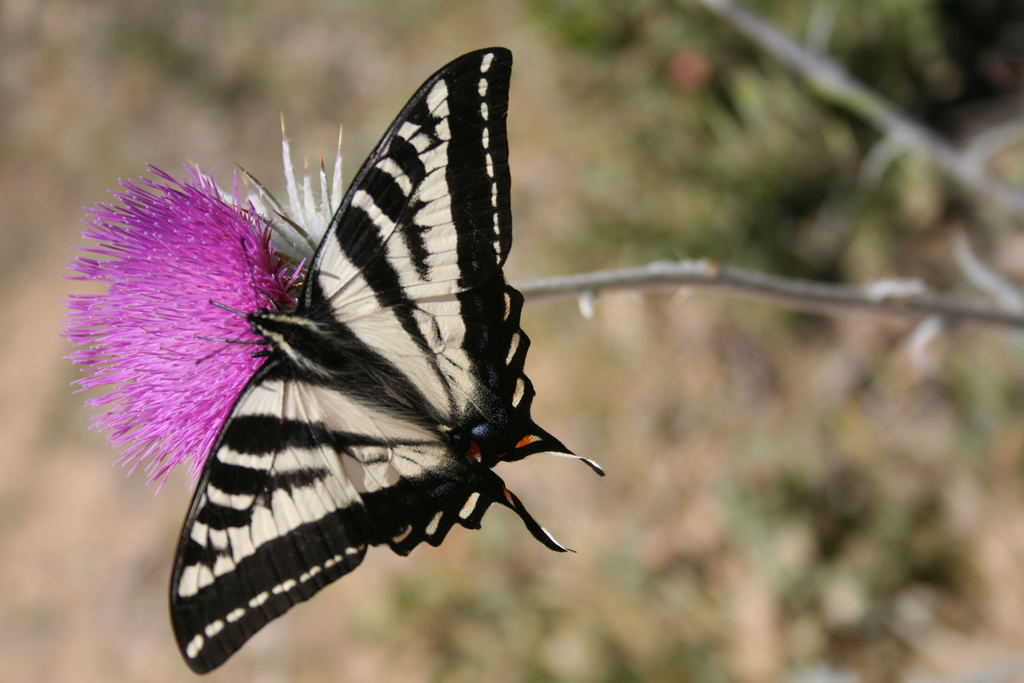Butterfly: (158, 30, 553, 683)
